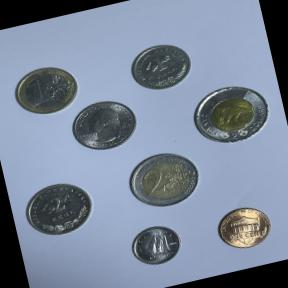1 Euro: (6, 58, 84, 122)
2 Euro: (119, 142, 210, 218)
Canda-10cent-: (122, 217, 191, 276)
Canda-2Dollar-: (184, 72, 278, 154)
Croatia-2Kune-: (16, 172, 102, 246)
US-25cent-: (66, 94, 142, 158)
